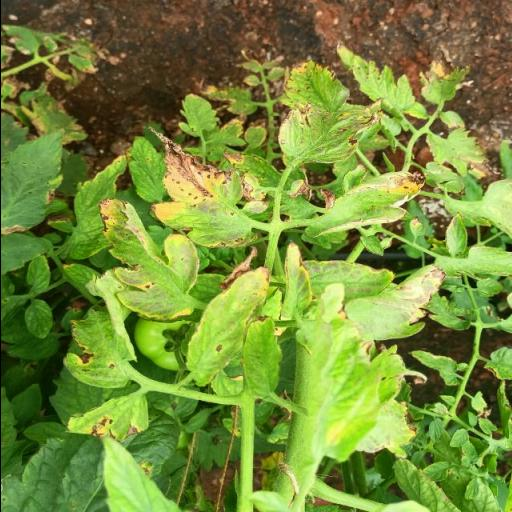disease_tomato: (138, 122, 254, 254), (94, 198, 198, 320), (184, 266, 272, 388), (316, 166, 428, 242), (60, 294, 138, 390), (0, 127, 66, 235), (276, 101, 375, 167), (63, 396, 149, 444)
